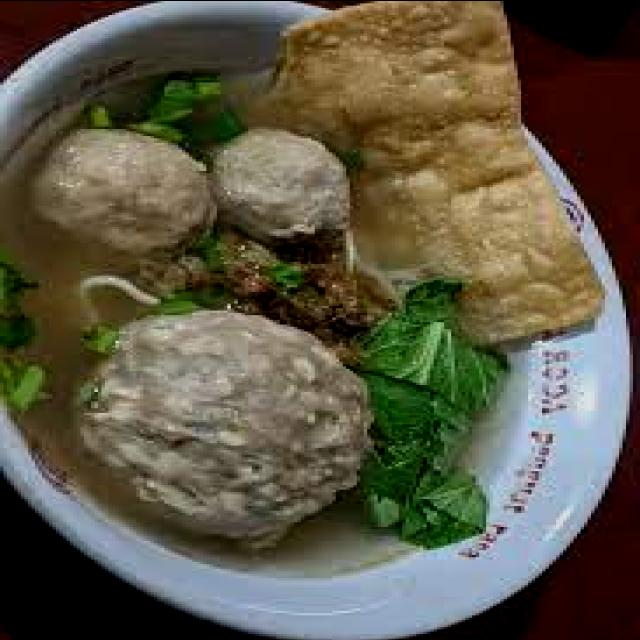bakso: (0, 70, 528, 577)
